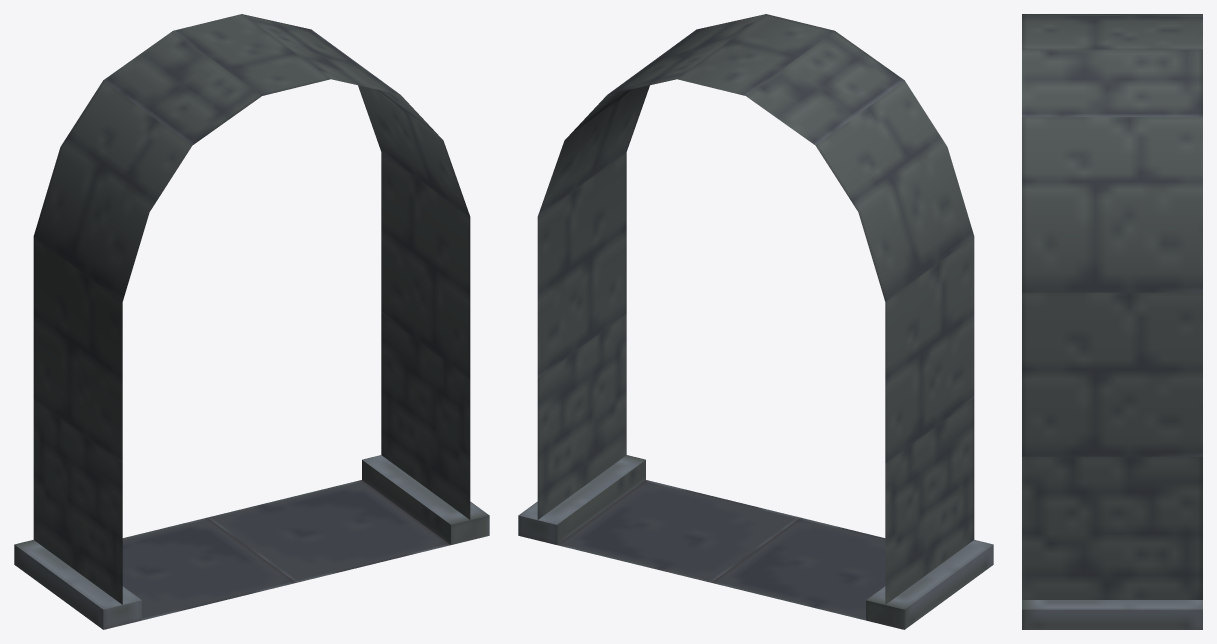
The model's file is arch_inside_medium_large.fbx.
3 views of the same model, side by side, from view 1: azimuth 30°, elevation 25°; view 2: azimuth 150°, elevation 25°; view 3: azimuth 270°, elevation 25° (orthographic).
Parts seen in each view (by area): view 1: arch_inside_medium_large; view 2: arch_inside_medium_large; view 3: arch_inside_medium_large.
Boxes of the visible parts, x1,y1,x2,y2 form: arch_inside_medium_large: (14,14,489,629); arch_inside_medium_large: (518,14,993,629); arch_inside_medium_large: (1022,14,1202,629).
Size of the model in its own units: 40 by 49 by 16.
